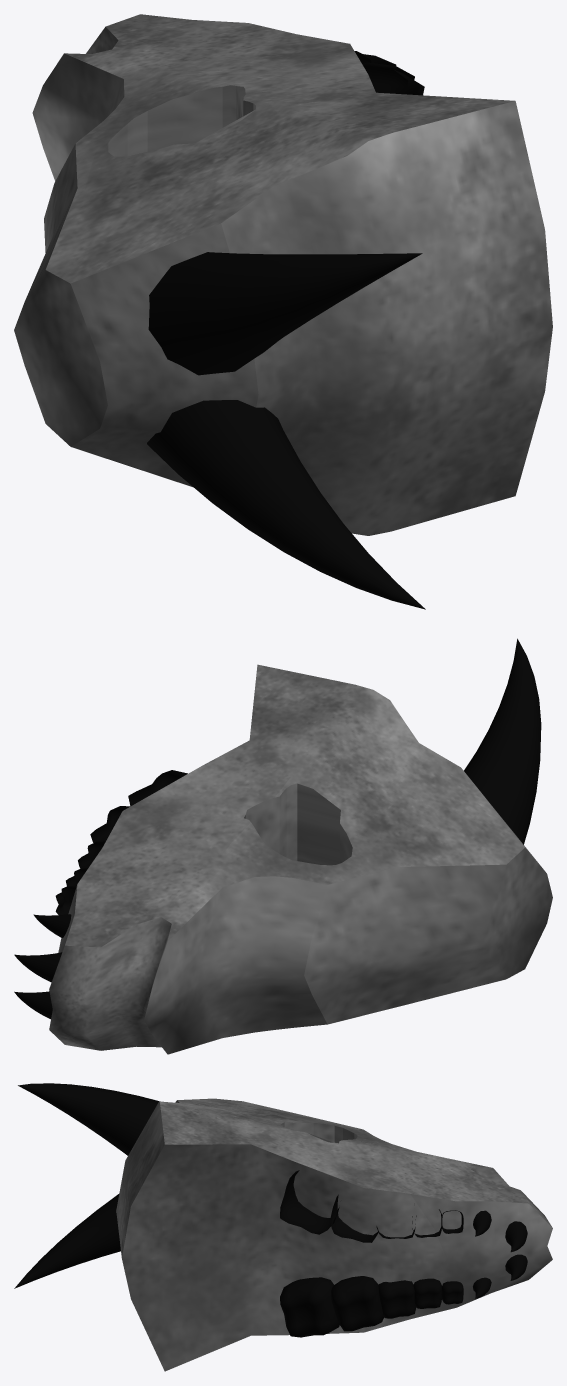
Rendered from PigSkull.fbx.
3 renders of one model, top to bottom at view 1: azimuth 30°, elevation 25°; view 2: azimuth 150°, elevation 25°; view 3: azimuth 270°, elevation 25°, orthographic. The views are drawn at different scales.
Visible parts, largest first — view 1: Skull, Horn, Horn1, subdivCube6; view 2: Skull, Horn1, pCone38, subdivCube6, pCone37, pCone39, subdivCube7; view 3: Skull, Horn1, Horn, subdivCube1, subdivCube2, subdivCube6, subdivCube3, subdivCube4, subdivCube7, pCone38, subdivCube5, pCone37 (+1 smaller).
Boxes of the visible parts, box(x1,y1,x2,y2) form: Skull: box(14, 14, 552, 535); Horn: box(147, 400, 425, 609); Horn1: box(148, 252, 422, 375); subdivCube6: box(362, 62, 424, 95); Skull: box(49, 664, 552, 1054); Horn1: box(464, 638, 541, 844); pCone38: box(14, 952, 62, 982); subdivCube6: box(128, 770, 187, 806); pCone37: box(14, 991, 52, 1019); pCone39: box(33, 914, 71, 937); subdivCube7: box(90, 806, 130, 842); Skull: box(116, 1098, 552, 1371); Horn1: box(18, 1083, 158, 1155); Horn: box(14, 1194, 120, 1288); subdivCube1: box(280, 1277, 339, 1337); subdivCube2: box(331, 1276, 383, 1331); subdivCube6: box(280, 1170, 339, 1234); subdivCube3: box(378, 1280, 416, 1318); subdivCube4: box(413, 1278, 441, 1308); subdivCube7: box(330, 1194, 378, 1242); pCone38: box(505, 1221, 527, 1252); subdivCube5: box(441, 1281, 463, 1304); pCone37: box(505, 1254, 527, 1280).
Size of the model in its own units: 0.2964 by 0.2556 by 0.5457.
